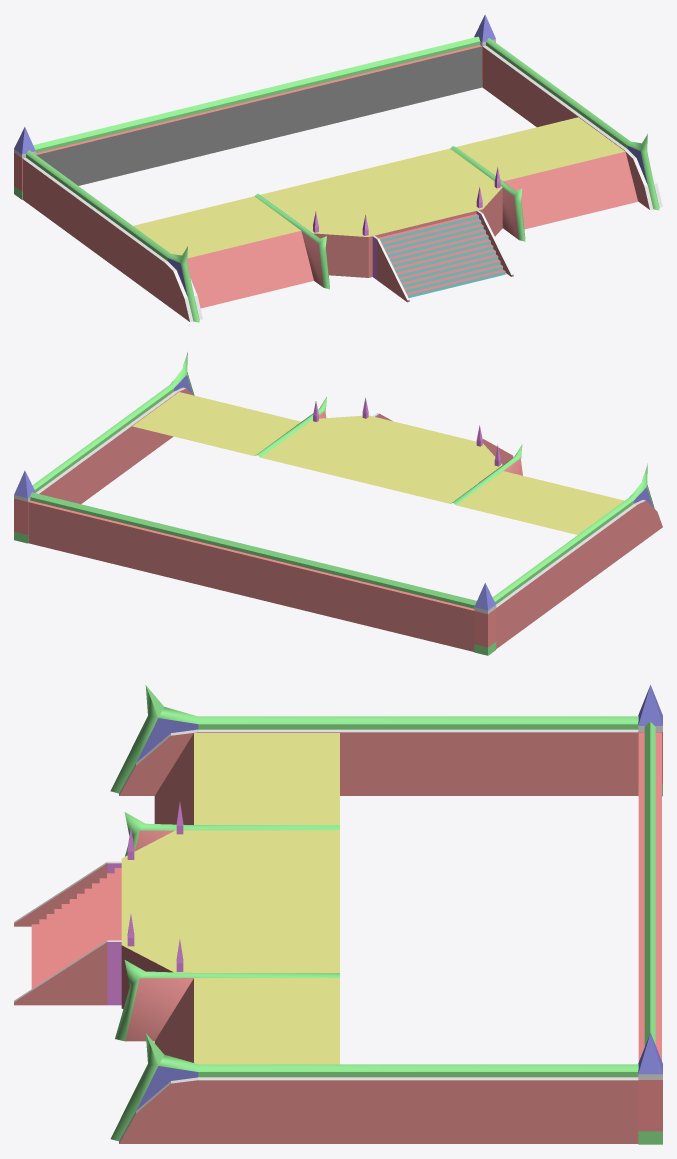
The model's file is O_DE_CH_btm_obj01.gltf.
3 views of the same model, one above another, from view 1: azimuth 30°, elevation 25°; view 2: azimuth 150°, elevation 25°; view 3: azimuth 270°, elevation 25° (orthographic). The views are drawn at different scales.
Parts seen in each view (by area): view 1: O_DE_CH_btm_obj01; view 2: O_DE_CH_btm_obj01; view 3: O_DE_CH_btm_obj01.
Part boxes in pixels (x1,y1,x2,y2): O_DE_CH_btm_obj01: (14, 14, 662, 322); O_DE_CH_btm_obj01: (14, 352, 662, 655); O_DE_CH_btm_obj01: (14, 685, 662, 1144).
Size of the model in its own units: 12.03 by 1.71 by 9.2.
